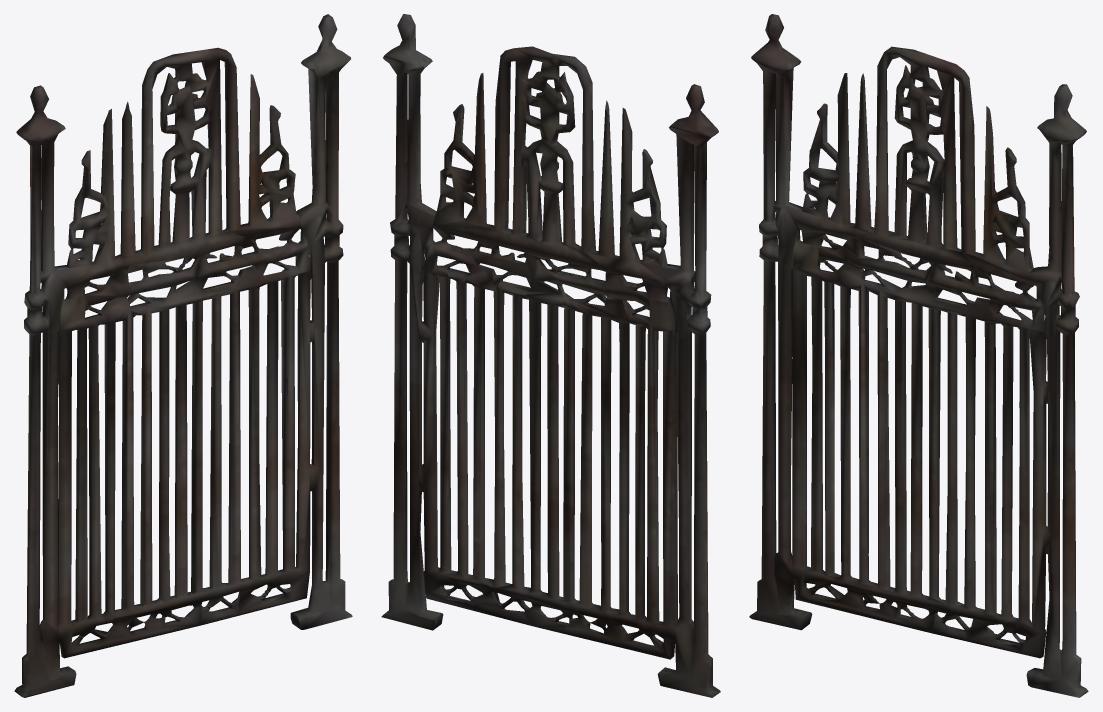
Rendered from worn-iron-iron-gate-v001.glb.
The picture shows the model from 3 angles, left to right: view 1: azimuth 30°, elevation 25°; view 2: azimuth 150°, elevation 25°; view 3: azimuth 330°, elevation 25°; orthographic projection.
Visible parts, largest first — view 1: worn-iron-iron-gate; view 2: worn-iron-iron-gate; view 3: worn-iron-iron-gate.
Boxes of the visible parts, x1,y1,x2,y2 form: worn-iron-iron-gate: (14,14,352,697); worn-iron-iron-gate: (381,14,720,697); worn-iron-iron-gate: (749,14,1088,697).
Bounding box in the file's own units: 1.36 × 2.38 × 0.0855.
Materials: 1 (1 with a texture image).
